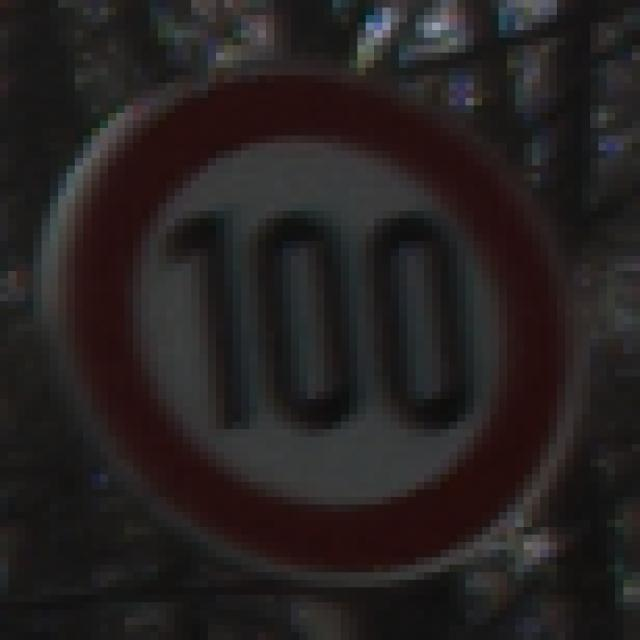speed limit 100: (47, 71, 585, 583)
